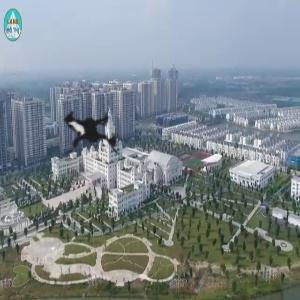drone: (29, 63, 160, 194)
